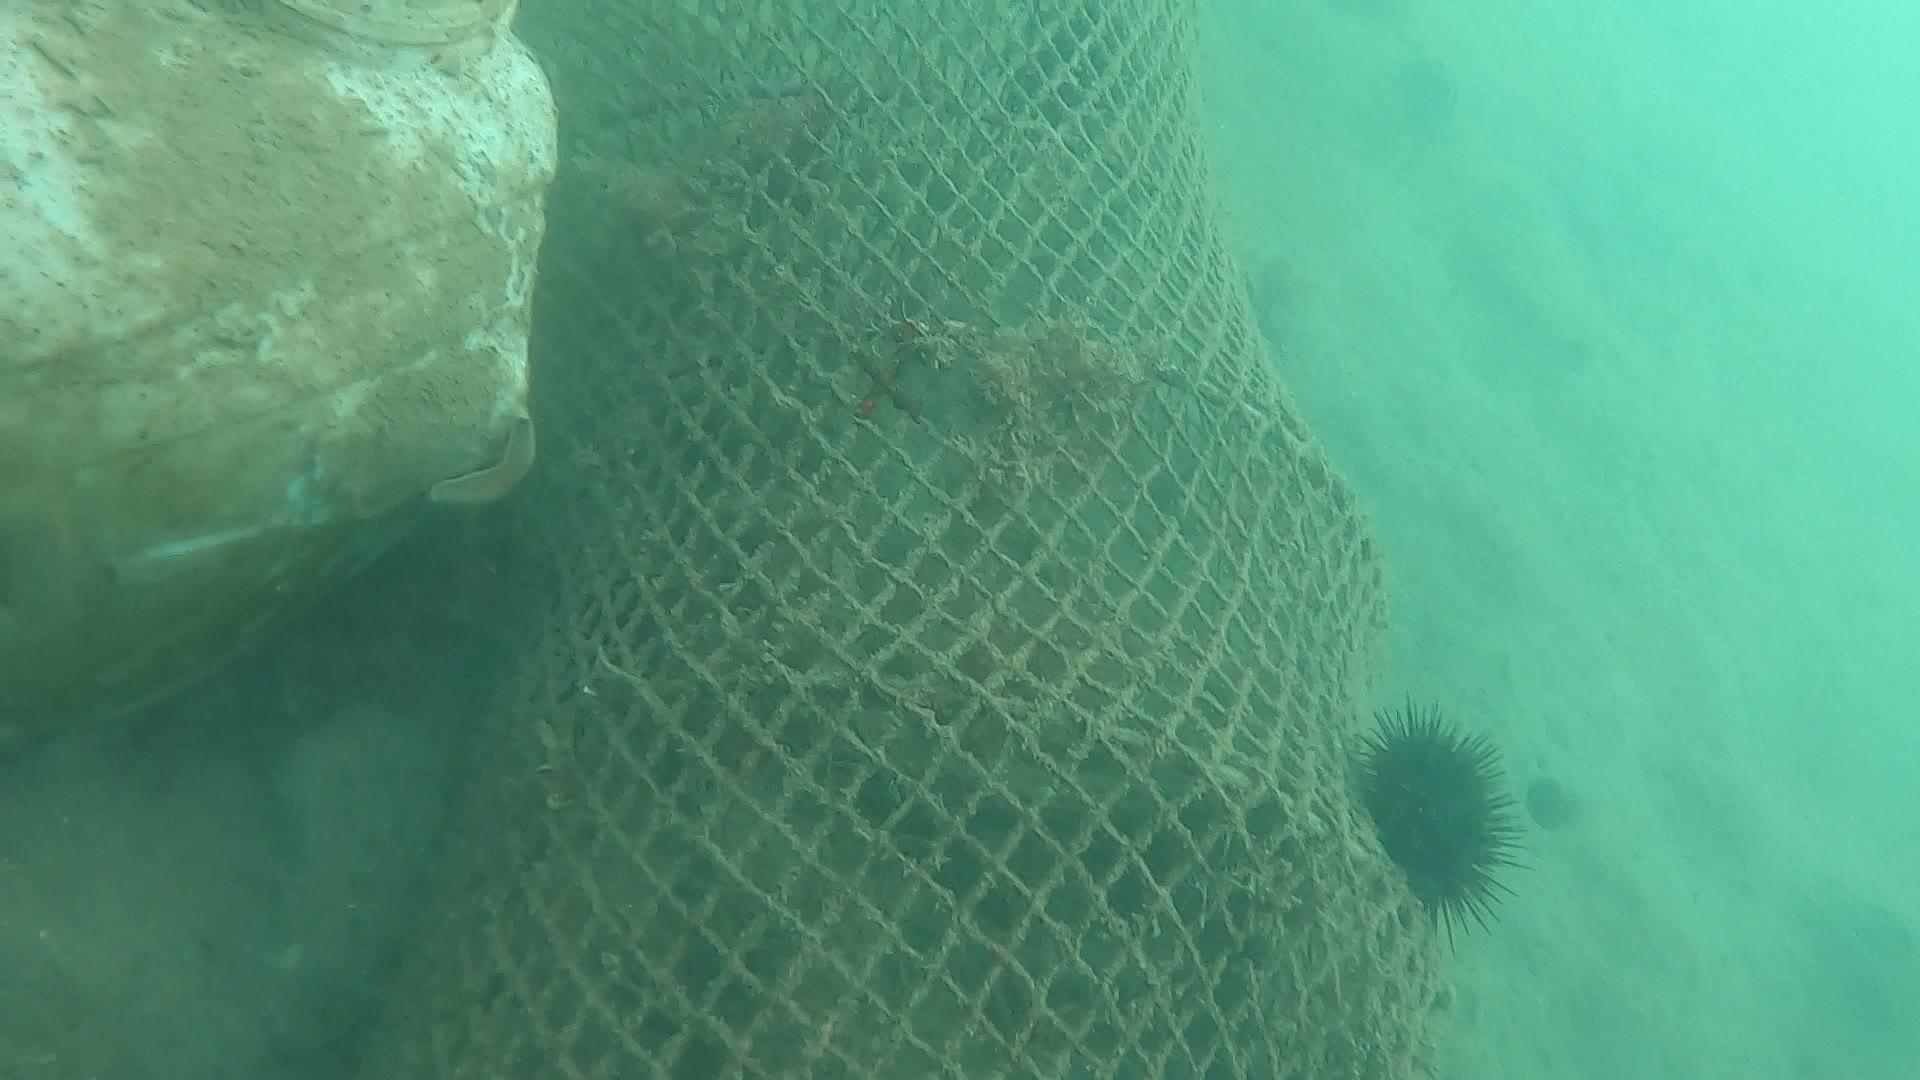spring fish trap: (351, 0, 1453, 1080)
